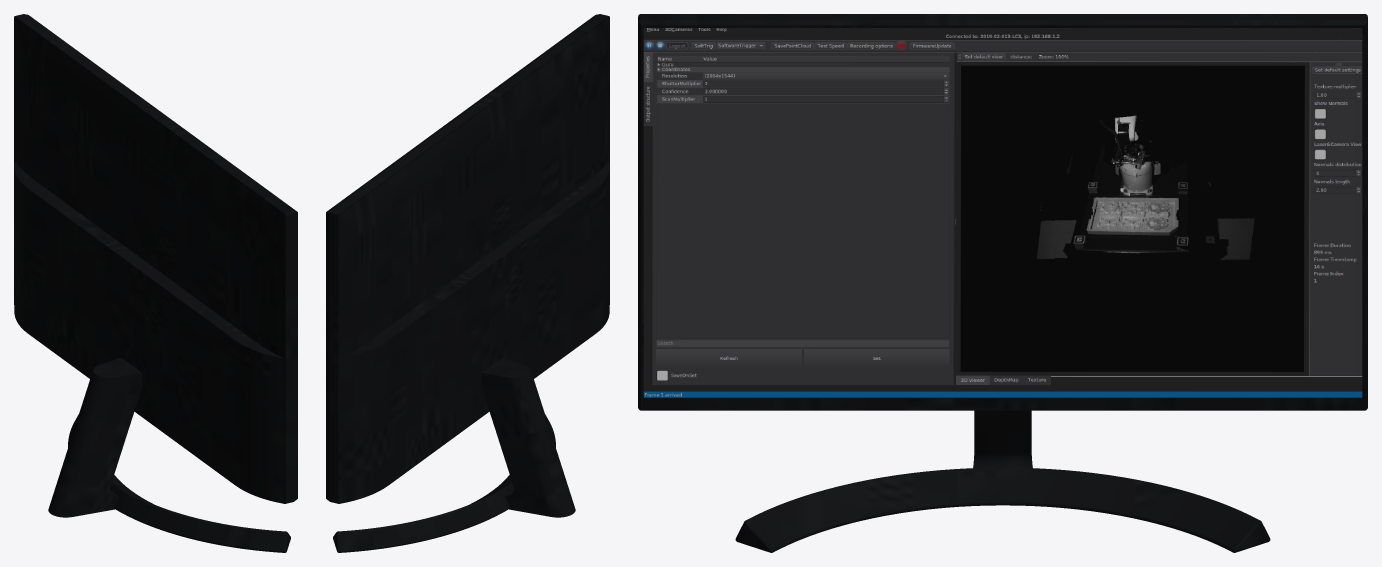
File: LGmonitor.dae
The picture shows the model from 3 angles, left to right: view 1: azimuth 30°, elevation 25°; view 2: azimuth 150°, elevation 25°; view 3: azimuth 270°, elevation 25°; orthographic projection. The views are drawn at different scales.
Parts seen in each view (by area): view 1: Body; view 2: Body; view 3: Display, Body.
Boxes of the visible parts, x1=… form: Body: x1=14, y1=14, x2=297, y2=552; Body: x1=326, y1=14, x2=609, y2=552; Display: x1=643, y1=28, x2=1362, y2=397; Body: x1=638, y1=14, x2=1367, y2=552.
Size of the model in its own units: 0.1721 by 0.525 by 0.4.
2 materials, 2 textured.
